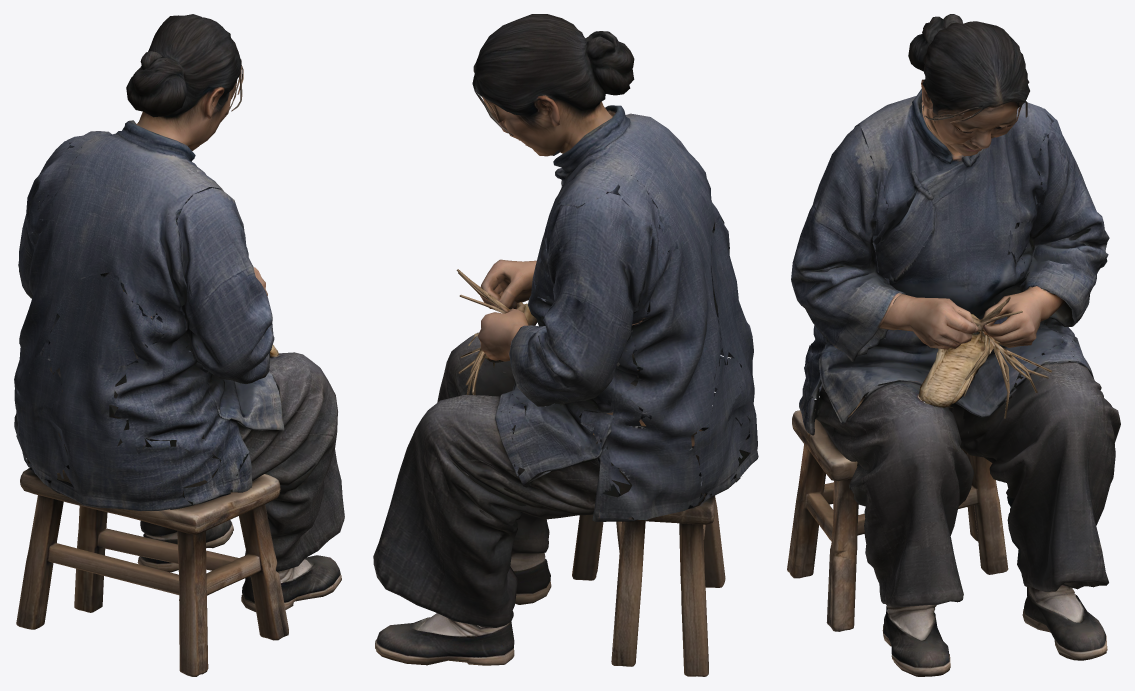
File: seated-civilian-woman.glb
The picture shows the model from 3 angles, left to right: view 1: azimuth 30°, elevation 25°; view 2: azimuth 150°, elevation 25°; view 3: azimuth 270°, elevation 25°; orthographic projection. The views are drawn at different scales.
Visible parts, largest first — view 1: Supplied seated-civilian-woman; view 2: Supplied seated-civilian-woman; view 3: Supplied seated-civilian-woman.
Boxes of the visible parts, x1,y1,x2,y2 form: Supplied seated-civilian-woman: (14, 14, 344, 676); Supplied seated-civilian-woman: (373, 14, 758, 676); Supplied seated-civilian-woman: (787, 14, 1120, 676).
Size of the model in its own units: 1 by 1.86 by 0.9525.
22 materials, 22 textured.
